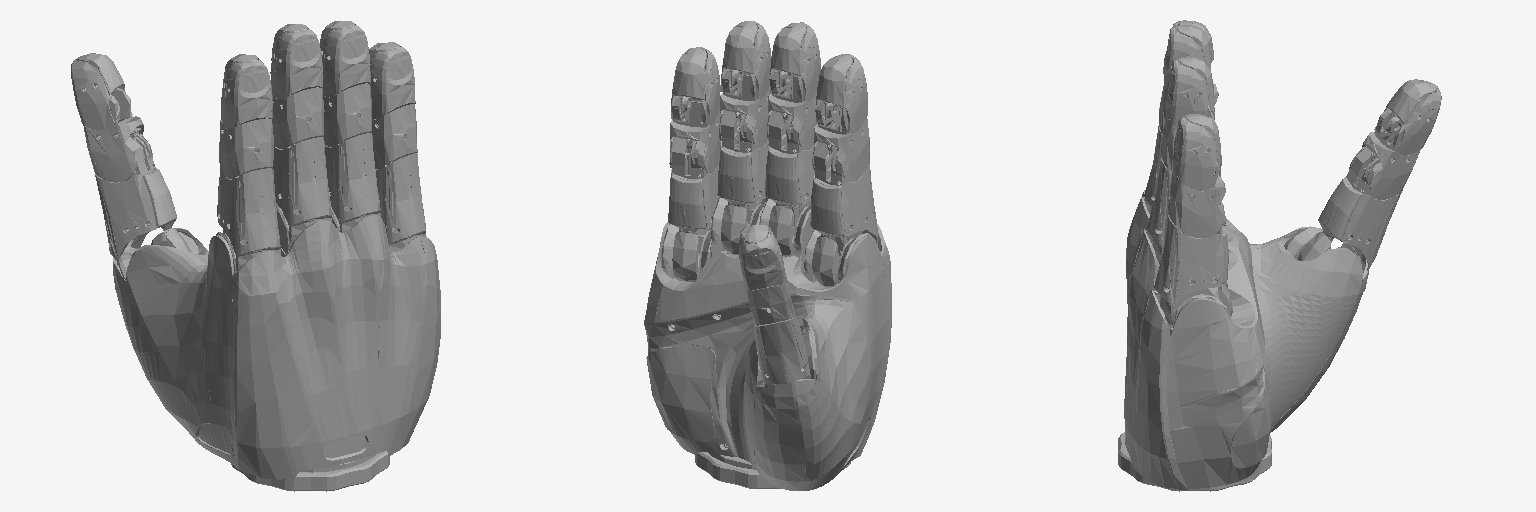
--- What the picture shows (computed from the rendered views, not written in the file) ---
The picture shows the robot from 3 angles, left to right: view 1: azimuth 30°, elevation 25°; view 2: azimuth 150°, elevation 25°; view 3: azimuth 270°, elevation 25°; orthographic projection.
Model dlr_hit2 with 27 links and 26 joints (23 revolute, 3 prismatic), rooted at root, posed all joints at 0.
Links seen in each view (by area): view 1: right_palm_link, right_thumb_proximal_link, right_index_proximal_link, right_middle_proximal_link, right_ring_proximal_link, right_pinky_proximal_link, right_middle_distal_link, right_thumb_medial_link, right_index_distal_link, right_ring_distal_link, right_thumb_distal_link, right_pinky_distal_link (+4 smaller); view 2: right_palm_link, right_index_proximal_link, right_pinky_proximal_link, right_ring_proximal_link, right_middle_proximal_link, right_thumb_proximal_link, right_index_distal_link, right_index_medial_link, right_middle_distal_link, right_ring_distal_link, right_thumb_distal_link, right_pinky_distal_link (+8 smaller); view 3: right_palm_link, right_thumb_proximal_link, right_pinky_proximal_link, right_pinky_distal_link, right_thumb_medial_link, right_thumb_distal_link, right_pinky_medial_link, right_ring_distal_link, right_middle_distal_link, right_ring_proximal_link, right_ring_medial_link, right_middle_proximal_link (+1 smaller).
Boxes of the visible links, x1=… form: right_palm_link: x1=113, y1=206, x2=440, y2=491; right_thumb_proximal_link: x1=95, y1=134, x2=176, y2=279; right_index_proximal_link: x1=217, y1=168, x2=280, y2=270; right_middle_proximal_link: x1=273, y1=137, x2=331, y2=244; right_ring_proximal_link: x1=325, y1=133, x2=380, y2=232; right_pinky_proximal_link: x1=375, y1=153, x2=425, y2=252; right_middle_distal_link: x1=271, y1=24, x2=322, y2=99; right_thumb_medial_link: x1=83, y1=88, x2=152, y2=182; right_index_distal_link: x1=221, y1=54, x2=272, y2=129; right_ring_distal_link: x1=320, y1=21, x2=370, y2=96; right_thumb_distal_link: x1=71, y1=53, x2=132, y2=130; right_pinky_distal_link: x1=369, y1=42, x2=415, y2=118; right_palm_link: x1=644, y1=197, x2=891, y2=490; right_index_proximal_link: x1=810, y1=142, x2=877, y2=244; right_pinky_proximal_link: x1=668, y1=137, x2=719, y2=234; right_ring_proximal_link: x1=717, y1=111, x2=768, y2=208; right_middle_proximal_link: x1=765, y1=111, x2=814, y2=210; right_thumb_proximal_link: x1=753, y1=288, x2=810, y2=388; right_index_distal_link: x1=816, y1=54, x2=867, y2=133; right_index_medial_link: x1=812, y1=100, x2=869, y2=181; right_middle_distal_link: x1=770, y1=22, x2=820, y2=101; right_ring_distal_link: x1=721, y1=21, x2=771, y2=99; right_thumb_distal_link: x1=739, y1=225, x2=786, y2=290; right_pinky_distal_link: x1=671, y1=47, x2=720, y2=125; right_palm_link: x1=1118, y1=190, x2=1368, y2=491; right_thumb_proximal_link: x1=1318, y1=148, x2=1401, y2=272; right_pinky_proximal_link: x1=1154, y1=194, x2=1228, y2=324; right_pinky_distal_link: x1=1173, y1=114, x2=1220, y2=190; right_thumb_medial_link: x1=1349, y1=109, x2=1419, y2=199; right_thumb_distal_link: x1=1374, y1=79, x2=1441, y2=155; right_pinky_medial_link: x1=1168, y1=148, x2=1225, y2=238; right_ring_distal_link: x1=1166, y1=57, x2=1213, y2=127; right_middle_distal_link: x1=1163, y1=25, x2=1211, y2=87; right_ring_proximal_link: x1=1147, y1=158, x2=1220, y2=264; right_ring_medial_link: x1=1161, y1=92, x2=1217, y2=171; right_middle_proximal_link: x1=1144, y1=114, x2=1218, y2=213.
Bounding box of the posed robot: 0.1295 × 0.1607 × 0.2366 m (x, y, z).
21 mesh visuals loaded from 5 distinct referenced files (5 binary STL).

The robot description file, URDF, robot "dlr_hit2":
<?xml version="1.0" encoding="utf-8"?>
<!-- =================================================================================== -->
<!-- |    This document was autogenerated by xacro from dlr_hit_15.urdf.xacro                | -->
<!-- |    EDITING THIS FILE BY HAND IS NOT RECOMMENDED                                 | -->
<!-- =================================================================================== -->
<robot name="dlr_hit2">
  <material name="DLR/LightGrey">
    <color rgba="0.7 0.7 0.7 1.0"/>
  </material>
  <material name="DLR/DarkGrey">
    <color rgba="0.4 0.4 0.4 1.0"/>
  </material>
  <material name="DLR/Black">
    <color rgba="0.0 0.0 0.0 1.0"/>
  </material>
  <material name="DLR/DarkGolden">
    <color rgba="0.4 0.4 0.3 1.0"/>
  </material>
  <material name="DLR/Blue">
    <color rgba="0.0 0.0 0.8 1.0"/>
  </material>
  <link name="root">
    <inertial>
      <origin rpy="-0.03143 -0.00602 -0.37822" xyz="0.00100 -0.00200 0.29000"/>
      <mass value="4.00000"/>
      <inertia ixx="0.05139" ixy="0" ixz="0" iyy="0.05015" iyz="0" izz="0.04715"/>
    </inertial>
  </link>
  <link name="root1">
    <inertial>
      <mass value="0.01"/>
      <inertia ixx="1e-4" ixy="0.0" ixz="0.0" iyy="1e-4" iyz="0.0" izz="1e-4"/>
    </inertial>
  </link>
  <link name="root2">
    <inertial>
      <mass value="0.01"/>
      <inertia ixx="1e-4" ixy="0.0" ixz="0.0" iyy="1e-4" iyz="0.0" izz="1e-4"/>
    </inertial>
  </link>
  <link name="root3">
    <inertial>
      <mass value="0.01"/>
      <inertia ixx="1e-4" ixy="0.0" ixz="0.0" iyy="1e-4" iyz="0.0" izz="1e-4"/>
    </inertial>
  </link>
  <link name="root4">
    <inertial>
      <mass value="0.01"/>
      <inertia ixx="1e-4" ixy="0.0" ixz="0.0" iyy="1e-4" iyz="0.0" izz="1e-4"/>
    </inertial>
  </link>
  <link name="root5">
    <inertial>
      <mass value="0.01"/>
      <inertia ixx="1e-4" ixy="0.0" ixz="0.0" iyy="1e-4" iyz="0.0" izz="1e-4"/>
    </inertial>
  </link>

  <joint name="x_joint" type="prismatic">
    <parent link="root"/>
    <child link="root1"/>
    <axis xyz="1 0 0"/>
    <limit lower="-5" upper="5"/>
  </joint>
  <joint name="y_joint" type="prismatic">
    <parent link="root1"/>
    <child link="root2"/>
    <axis xyz="0 1 0"/>
    <limit lower="-5" upper="5"/>
  </joint>
  <joint name="z_joint" type="prismatic">
    <parent link="root2"/>
    <child link="root3"/>
    <axis xyz="0 0 1"/>
    <limit lower="-5" upper="5"/>
  </joint>
  <joint name="x_rotation_joint" type="revolute">
    <parent link="root3"/>
    <child link="root4"/>
    <axis xyz="1 0 0"/>
    <limit lower="-3.14" upper="3.14"/>
  </joint>
  <joint name="y_rotation_joint" type="revolute">
    <parent link="root4"/>
    <child link="root5"/>
    <axis xyz="0 1 0"/>
    <limit lower="-3.14" upper="3.14"/>
  </joint>
  <joint name="z_rotation_joint" type="revolute">
    <parent link="root5"/>
    <child link="right_palm_link"/>
    <axis xyz="0 0 1"/>
    <origin rpy="-0.00000 -0.00000 1.57079" xyz="0 0 0"/>
    <limit lower="-3.14" upper="3.14"/>
  </joint>

  <!-- macro for the hand -->
  <!-- joint between arm_end_effector and hit2_palm_link -->
  <link name="right_palm_link">
    <!-- <inertial> -->
    <!-- PALM MASS AND INERTIA TO BE ESTIMATED!!!! -->
    <!-- <origin xyz="0 0 0" rpy="0 0 0"/>
				<mass value="1"/>
				<inertia ixx="0.01" ixy="0" ixz="0" iyy="0.01" iyz="0" izz="0.01" />
			</inertial> -->
    <!-- also check whether is ok to leave at zero the origin -->
    <visual>
      <origin rpy="0 0 0" xyz="0 0 0"/>
      <geometry>
        <mesh filename="dlr_description/meshes/hit2/palm.stl"/>
      </geometry>
      <material name="DLR/LightGrey"/>
    </visual>
    <collision>
      <origin rpy="0 0 0" xyz="0 0 0"/>
      <geometry>
        <mesh filename="dlr_description/meshes/hit2/palm.stl"/>
      </geometry>
    </collision>
  </link>
  <!-- macro for one finger -->
  <!-- abductor joint between palm_link and finger_abd_link - fake between palm and proximal -->
  <joint name="right_thumb_abd_joint" type="revolute">
    <origin rpy="0.41136 -1.08366 0.225804" xyz="0.062569057 0.044544548 0.080044647"/>
    <parent link="right_palm_link"/>
    <child link="right_thumb_abd_link"/>
    <axis xyz="0 0 1"/>
    <dynamics damping="1"/>
    <limit effort="100" lower="-0.349065850399" upper="0.349065850399" velocity="5"/>
    <!-- effort="100" velocity="5" -->
  </joint>
  <link name="right_thumb_abd_link">
    <!-- 			<inertial>
				<origin xyz="0 0 0" rpy="0 0 0"/>
				<mass value="0.0"/>
				<inertia ixx="0" ixy="0" ixz="0" iyy="0" iyz="0" izz="0" />
			</inertial> -->
    <!-- possibly add basecover.stl as both geometry and collision... -->
    <visual>
      <origin rpy="0 0 0" xyz="0 0 0"/>
      <geometry>
        <mesh filename="dlr_description/meshes/hit2/base.stl"/>
      </geometry>
      <material name="DLR/LightGrey"/>
    </visual>
  </link>
  <!-- inner joint between abd_link and proximal_link -->
  <joint name="right_thumb_inner_joint" type="revolute">
    <!-- coincident with abd_joint, rotated of 90 degrees along x -->
    <origin rpy="1.57079632679 0 0" xyz="0 0 0"/>
    <parent link="right_thumb_abd_link"/>
    <child link="right_thumb_proximal_link"/>
    <axis xyz="0 0 1"/>
    <dynamics damping="1"/>
    <limit effort="100" lower="0.0" upper="1.308996939" velocity="5"/>
    <!-- effort="100" velocity="5" -->
  </joint>
  <link name="right_thumb_proximal_link">
    <!-- <inertial>
				<origin xyz="30.164510e -1.0130813 0.50813186" rpy="0 0 0"/>
				<mass value="0.044370598"/>
				<inertia ixx="${inertia_scale * 4.5592704}" ixy="${inertia_scale * 0.90783105}" ixz="${inertia_scale * (-0.9399771)}" iyy="${inertia_scale * 49.045259}" iyz="${inertia_scale * 0.017052714}" izz="${inertia_scale * 50.524234}" />
			</inertial> -->
    <visual>
      <origin rpy="0 0 0" xyz="0 0 0"/>
      <geometry>
        <mesh filename="dlr_description/meshes/hit2/proximal.stl"/>
      </geometry>
      <material name="DLR/LightGrey"/>
    </visual>
    <!-- 			<collision>
				<origin xyz="0 0 0" rpy="0 0 0" />
				<geometry>
					<mesh filename="dlr_description/meshes/hit2/phalanx_proximal.stl"/>
				</geometry>
			</collision> -->
  </link>
  <!-- outer1 joint between proximal_link and medial_link -->
  <joint name="right_thumb_outer1_joint" type="revolute">
    <origin rpy="0 0 0" xyz="0.055 0 0"/>
    <parent link="right_thumb_proximal_link"/>
    <child link="right_thumb_medial_link"/>
    <axis xyz="0 0 1"/>
    <dynamics damping="1"/>
    <limit effort="100" lower="0.0" upper="1.308996939" velocity="5"/>
    <!-- effort="100" velocity="5" -->
  </joint>
  <link name="right_thumb_medial_link">
    <!-- <inertial>
			<origin xyz="5.7271879 -1.6164173 -1.1567914" rpy="0 0 0"/>
				<mass value="0.027110192"/>
				<inertia ixx="${inertia_scale * 2.2900229}" ixy="${inertia_scale * 0.40604622}" ixz="${inertia_scale * 0.14362094}" iyy="${inertia_scale * 4.2155489}" iyz="${inertia_scale * (-0.043115648)}" izz="${inertia_scale * 4.4292927}" />
			</inertial> -->
    <visual>
      <origin rpy="0 0 0" xyz="0 0 0"/>
      <geometry>
        <mesh filename="dlr_description/meshes/hit2/medial.stl"/>
      </geometry>
      <material name="DLR/LightGrey"/>
    </visual>
    <collision>
      <origin rpy="0 0 0" xyz="0 0 0"/>
      <geometry>
        <mesh filename="dlr_description/meshes/hit2/medial.stl"/>
      </geometry>
    </collision>
  </link>
  <!-- outer2 joint between medial_link and distal_link -->
  <joint name="right_thumb_outer2_joint" type="revolute">
    <origin rpy="0 0 -1.57079632679" xyz="0.025 0 0"/>
    <parent link="right_thumb_medial_link"/>
    <child link="right_thumb_distal_link"/>
    <axis xyz="0 0 1"/>
    <dynamics damping="1"/>
    <limit effort="100" lower="0.0" upper="1.308996939" velocity="5"/>
    <!-- effort="100" velocity="5" -->
  </joint>
  <link name="right_thumb_distal_link">
    <!-- <inertial>
			<origin xyz="-0.83348211 6.1007977 1.7728256" rpy="0 0 0"/>
				<mass value="0.018179709"/>
				<inertia ixx="${inertia_scale * 2.5867271}" ixy="${inertia_scale * 0.15840536}" ixz="${inertia_scale * (-0.00078205885)}" iyy="${inertia_scale * 0.84596248}" iyz="${inertia_scale * (-0.0048358115)}" izz="${inertia_scale * 2.5838485}" />
			</inertial> -->
    <visual>
      <origin rpy="0 0 0" xyz="0 0 0"/>
      <geometry>
        <mesh filename="dlr_description/meshes/hit2/distal.stl"/>
      </geometry>
      <material name="DLR/LightGrey"/>
    </visual>
    <collision>
      <origin rpy="0 0 0" xyz="0 0 0"/>
      <geometry>
        <mesh filename="dlr_description/meshes/hit2/distal.stl"/>
      </geometry>
    </collision>
  </link>
  <!-- macro for one finger -->
  <!-- abductor joint between palm_link and finger_abd_link - fake between palm and proximal -->
  <joint name="right_index_abd_joint" type="revolute">
    <origin rpy="3.05433 -1.57079632679 0" xyz="-0.002529881 0.036800135 0.108743545"/>
    <parent link="right_palm_link"/>
    <child link="right_index_abd_link"/>
    <axis xyz="0 0 1"/>
    <dynamics damping="1"/>
    <limit effort="100" lower="-0.349065850399" upper="0.349065850399" velocity="5"/>
    <!-- effort="100" velocity="5" -->
  </joint>
  <link name="right_index_abd_link">
    <!-- 			<inertial>
				<origin xyz="0 0 0" rpy="0 0 0"/>
				<mass value="0.0"/>
				<inertia ixx="0" ixy="0" ixz="0" iyy="0" iyz="0" izz="0" />
			</inertial> -->
    <!-- possibly add basecover.stl as both geometry and collision... -->
    <visual>
      <origin rpy="0 0 0" xyz="0 0 0"/>
      <geometry>
        <mesh filename="dlr_description/meshes/hit2/base.stl"/>
      </geometry>
      <material name="DLR/LightGrey"/>
    </visual>
  </link>
  <!-- inner joint between abd_link and proximal_link -->
  <joint name="right_index_inner_joint" type="revolute">
    <!-- coincident with abd_joint, rotated of 90 degrees along x -->
    <origin rpy="1.57079632679 0 0" xyz="0 0 0"/>
    <parent link="right_index_abd_link"/>
    <child link="right_index_proximal_link"/>
    <axis xyz="0 0 1"/>
    <dynamics damping="1"/>
    <limit effort="100" lower="0.0" upper="1.308996939" velocity="5"/>
    <!-- effort="100" velocity="5" -->
  </joint>
  <link name="right_index_proximal_link">
    <!-- <inertial>
				<origin xyz="30.164510e -1.0130813 0.50813186" rpy="0 0 0"/>
				<mass value="0.044370598"/>
				<inertia ixx="${inertia_scale * 4.5592704}" ixy="${inertia_scale * 0.90783105}" ixz="${inertia_scale * (-0.9399771)}" iyy="${inertia_scale * 49.045259}" iyz="${inertia_scale * 0.017052714}" izz="${inertia_scale * 50.524234}" />
			</inertial> -->
    <visual>
      <origin rpy="0 0 0" xyz="0 0 0"/>
      <geometry>
        <mesh filename="dlr_description/meshes/hit2/proximal.stl"/>
      </geometry>
      <material name="DLR/LightGrey"/>
    </visual>
    <!-- 			<collision>
				<origin xyz="0 0 0" rpy="0 0 0" />
				<geometry>
					<mesh filename="dlr_description/meshes/hit2/phalanx_proximal.stl"/>
				</geometry>
			</collision> -->
  </link>
  <!-- outer1 joint between proximal_link and medial_link -->
  <joint name="right_index_outer1_joint" type="revolute">
    <origin rpy="0 0 0" xyz="0.055 0 0"/>
    <parent link="right_index_proximal_link"/>
    <child link="right_index_medial_link"/>
    <axis xyz="0 0 1"/>
    <dynamics damping="1"/>
    <limit effort="100" lower="0.0" upper="1.308996939" velocity="5"/>
    <!-- effort="100" velocity="5" -->
  </joint>
  <link name="right_index_medial_link">
    <!-- <inertial>
			<origin xyz="5.7271879 -1.6164173 -1.1567914" rpy="0 0 0"/>
				<mass value="0.027110192"/>
				<inertia ixx="${inertia_scale * 2.2900229}" ixy="${inertia_scale * 0.40604622}" ixz="${inertia_scale * 0.14362094}" iyy="${inertia_scale * 4.2155489}" iyz="${inertia_scale * (-0.043115648)}" izz="${inertia_scale * 4.4292927}" />
			</inertial> -->
    <visual>
      <origin rpy="0 0 0" xyz="0 0 0"/>
      <geometry>
        <mesh filename="dlr_description/meshes/hit2/medial.stl"/>
      </geometry>
      <material name="DLR/LightGrey"/>
    </visual>
    <collision>
      <origin rpy="0 0 0" xyz="0 0 0"/>
      <geometry>
        <mesh filename="dlr_description/meshes/hit2/medial.stl"/>
      </geometry>
    </collision>
  </link>
  <!-- outer2 joint between medial_link and distal_link -->
  <joint name="right_index_outer2_joint" type="revolute">
    <origin rpy="0 0 -1.57079632679" xyz="0.025 0 0"/>
    <parent link="right_index_medial_link"/>
    <child link="right_index_distal_link"/>
    <axis xyz="0 0 1"/>
    <dynamics damping="1"/>
    <limit effort="100" lower="0.0" upper="1.308996939" velocity="5"/>
    <!-- effort="100" velocity="5" -->
  </joint>
  <link name="right_index_distal_link">
    <!-- <inertial>
			<origin xyz="-0.83348211 6.1007977 1.7728256" rpy="0 0 0"/>
				<mass value="0.018179709"/>
				<inertia ixx="${inertia_scale * 2.5867271}" ixy="${inertia_scale * 0.15840536}" ixz="${inertia_scale * (-0.00078205885)}" iyy="${inertia_scale * 0.84596248}" iyz="${inertia_scale * (-0.0048358115)}" izz="${inertia_scale * 2.5838485}" />
			</inertial> -->
    <visual>
      <origin rpy="0 0 0" xyz="0 0 0"/>
      <geometry>
        <mesh filename="dlr_description/meshes/hit2/distal.stl"/>
      </geometry>
      <material name="DLR/LightGrey"/>
    </visual>
    <collision>
      <origin rpy="0 0 0" xyz="0 0 0"/>
      <geometry>
        <mesh filename="dlr_description/meshes/hit2/distal.stl"/>
      </geometry>
    </collision>
  </link>
  <!-- macro for one finger -->
  <!-- abductor joint between palm_link and finger_abd_link - fake between palm and proximal -->
  <joint name="right_middle_abd_joint" type="revolute">
    <origin rpy="3.14159265359 -1.57079632679 0" xyz="-0.0037 0.01 0.119043545"/>
    <parent link="right_palm_link"/>
    <child link="right_middle_abd_link"/>
    <axis xyz="0 0 1"/>
    <dynamics damping="1"/>
    <limit effort="100" lower="-0.349065850399" upper="0.349065850399" velocity="5"/>
    <!-- effort="100" velocity="5" -->
  </joint>
  <link name="right_middle_abd_link">
    <!-- 			<inertial>
				<origin xyz="0 0 0" rpy="0 0 0"/>
				<mass value="0.0"/>
				<inertia ixx="0" ixy="0" ixz="0" iyy="0" iyz="0" izz="0" />
			</inertial> -->
    <!-- possibly add basecover.stl as both geometry and collision... -->
    <visual>
      <origin rpy="0 0 0" xyz="0 0 0"/>
      <geometry>
        <mesh filename="dlr_description/meshes/hit2/base.stl"/>
      </geometry>
      <material name="DLR/LightGrey"/>
    </visual>
  </link>
  <!-- inner joint between abd_link and proximal_link -->
  <joint name="right_middle_inner_joint" type="revolute">
    <!-- coincident with abd_joint, rotated of 90 degrees along x -->
    <origin rpy="1.57079632679 0 0" xyz="0 0 0"/>
    <parent link="right_middle_abd_link"/>
    <child link="right_middle_proximal_link"/>
    <axis xyz="0 0 1"/>
    <dynamics damping="1"/>
    <limit effort="100" lower="0.0" upper="1.308996939" velocity="5"/>
    <!-- effort="100" velocity="5" -->
  </joint>
  <link name="right_middle_proximal_link">
    <!-- <inertial>
				<origin xyz="30.164510e -1.0130813 0.50813186" rpy="0 0 0"/>
				<mass value="0.044370598"/>
				<inertia ixx="${inertia_scale * 4.5592704}" ixy="${inertia_scale * 0.90783105}" ixz="${inertia_scale * (-0.9399771)}" iyy="${inertia_scale * 49.045259}" iyz="${inertia_scale * 0.017052714}" izz="${inertia_scale * 50.524234}" />
			</inertial> -->
    <visual>
      <origin rpy="0 0 0" xyz="0 0 0"/>
      <geometry>
        <mesh filename="dlr_description/meshes/hit2/proximal.stl"/>
      </geometry>
      <material name="DLR/LightGrey"/>
    </visual>
    <!-- 			<collision>
				<origin xyz="0 0 0" rpy="0 0 0" />
				<geometry>
					<mesh filename="dlr_description/meshes/hit2/phalanx_proximal.stl"/>
				</geometry>
			</collision> -->
  </link>
  <!-- outer1 joint between proximal_link and medial_link -->
  <joint name="right_middle_outer1_joint" type="revolute">
    <origin rpy="0 0 0" xyz="0.055 0 0"/>
    <parent link="right_middle_proximal_link"/>
    <child link="right_middle_medial_link"/>
    <axis xyz="0 0 1"/>
    <dynamics damping="1"/>
    <limit effort="100" lower="0.0" upper="1.308996939" velocity="5"/>
    <!-- effort="100" velocity="5" -->
  </joint>
  <link name="right_middle_medial_link">
    <!-- <inertial>
			<origin xyz="5.7271879 -1.6164173 -1.1567914" rpy="0 0 0"/>
				<mass value="0.027110192"/>
				<inertia ixx="${inertia_scale * 2.2900229}" ixy="${inertia_scale * 0.40604622}" ixz="${inertia_scale * 0.14362094}" iyy="${inertia_scale * 4.2155489}" iyz="${inertia_scale * (-0.043115648)}" izz="${inertia_scale * 4.4292927}" />
			</inertial> -->
    <visual>
      <origin rpy="0 0 0" xyz="0 0 0"/>
      <geometry>
        <mesh filename="dlr_description/meshes/hit2/medial.stl"/>
      </geometry>
      <material name="DLR/LightGrey"/>
    </visual>
    <collision>
      <origin rpy="0 0 0" xyz="0 0 0"/>
      <geometry>
        <mesh filename="dlr_description/meshes/hit2/medial.stl"/>
      </geometry>
    </collision>
  </link>
  <!-- outer2 joint between medial_link and distal_link -->
  <joint name="right_middle_outer2_joint" type="revolute">
    <origin rpy="0 0 -1.57079632679" xyz="0.025 0 0"/>
    <parent link="right_middle_medial_link"/>
    <child link="right_middle_distal_link"/>
    <axis xyz="0 0 1"/>
    <dynamics damping="1"/>
    <limit effort="100" lower="0.0" upper="1.308996939" velocity="5"/>
    <!-- effort="100" velocity="5" -->
  </joint>
  <link name="right_middle_distal_link">
    <!-- <inertial>
			<origin xyz="-0.83348211 6.1007977 1.7728256" rpy="0 0 0"/>
				<mass value="0.018179709"/>
				<inertia ixx="${inertia_scale * 2.5867271}" ixy="${inertia_scale * 0.15840536}" ixz="${inertia_scale * (-0.00078205885)}" iyy="${inertia_scale * 0.84596248}" iyz="${inertia_scale * (-0.0048358115)}" izz="${inertia_scale * 2.5838485}" />
			</inertial> -->
    <visual>
      <origin rpy="0 0 0" xyz="0 0 0"/>
      <geometry>
        <mesh filename="dlr_description/meshes/hit2/distal.stl"/>
      </geometry>
      <material name="DLR/LightGrey"/>
    </visual>
    <collision>
      <origin rpy="0 0 0" xyz="0 0 0"/>
      <geometry>
        <mesh filename="dlr_description/meshes/hit2/distal.stl"/>
      </geometry>
    </collision>
  </link>
  <!-- macro for one finger -->
  <!-- abductor joint between palm_link and finger_abd_link - fake between palm and proximal -->
  <joint name="right_ring_abd_joint" type="revolute">
    <origin rpy="-3.05433 -1.57079632679 0" xyz="-0.002529881 -0.016800135 0.114043545"/>
    <parent link="right_palm_link"/>
    <child link="right_ring_abd_link"/>
    <axis xyz="0 0 1"/>
    <dynamics damping="1"/>
    <limit effort="100" lower="-0.349065850399" upper="0.349065850399" velocity="5"/>
    <!-- effort="100" velocity="5" -->
  </joint>
  <link name="right_ring_abd_link">
    <!-- 			<inertial>
				<origin xyz="0 0 0" rpy="0 0 0"/>
				<mass value="0.0"/>
				<inertia ixx="0" ixy="0" ixz="0" iyy="0" iyz="0" izz="0" />
			</inertial> -->
    <!-- possibly add basecover.stl as both geometry and collision... -->
    <visual>
      <origin rpy="0 0 0" xyz="0 0 0"/>
      <geometry>
        <mesh filename="dlr_description/meshes/hit2/base.stl"/>
      </geometry>
      <material name="DLR/LightGrey"/>
    </visual>
  </link>
  <!-- inner joint between abd_link and proximal_link -->
  <joint name="right_ring_inner_joint" type="revolute">
    <!-- coincident with abd_joint, rotated of 90 degrees along x -->
    <origin rpy="1.57079632679 0 0" xyz="0 0 0"/>
    <parent link="right_ring_abd_link"/>
    <child link="right_ring_proximal_link"/>
    <axis xyz="0 0 1"/>
    <dynamics damping="1"/>
    <limit effort="100" lower="0.0" upper="1.308996939" velocity="5"/>
    <!-- effort="100" velocity="5" -->
  </joint>
  <link name="right_ring_proximal_link">
    <!-- <inertial>
				<origin xyz="30.164510e -1.0130813 0.50813186" rpy="0 0 0"/>
				<mass value="0.044370598"/>
				<inertia ixx="${inertia_scale * 4.5592704}" ixy="${inertia_scale * 0.90783105}" ixz="${inertia_scale * (-0.9399771)}" iyy="${inertia_scale * 49.045259}" iyz="${inertia_scale * 0.017052714}" izz="${inertia_scale * 50.524234}" />
			</inertial> -->
    <visual>
      <origin rpy="0 0 0" xyz="0 0 0"/>
      <geometry>
        <mesh filename="dlr_description/meshes/hit2/proximal.stl"/>
      </geometry>
      <material name="DLR/LightGrey"/>
    </visual>
    <!-- 			<collision>
				<origin xyz="0 0 0" rpy="0 0 0" />
				<geometry>
					<mesh filename="dlr_description/meshes/hit2/phalanx_proximal.stl"/>
				</geometry>
			</collision> -->
  </link>
  <!-- outer1 joint between proximal_link and medial_link -->
  <joint name="right_ring_outer1_joint" type="revolute">
    <origin rpy="0 0 0" xyz="0.055 0 0"/>
    <parent link="right_ring_proximal_link"/>
    <child link="right_ring_medial_link"/>
    <axis xyz="0 0 1"/>
    <dynamics damping="1"/>
    <limit effort="100" lower="0.0" upper="1.308996939" velocity="5"/>
    <!-- effort="100" velocity="5" -->
  </joint>
  <link name="right_ring_medial_link">
    <!-- <inertial>
			<origin xyz="5.7271879 -1.6164173 -1.1567914" rpy="0 0 0"/>
				<mass value="0.027110192"/>
				<inertia ixx="${inertia_scale * 2.2900229}" ixy="${inertia_scale * 0.40604622}" ixz="${inertia_scale * 0.14362094}" iyy="${inertia_scale * 4.2155489}" iyz="${inertia_scale * (-0.043115648)}" izz="${inertia_scale * 4.4292927}" />
			</inertial> -->
    <visual>
      <origin rpy="0 0 0" xyz="0 0 0"/>
      <geometry>
        <mesh filename="dlr_description/meshes/hit2/medial.stl"/>
      </geometry>
      <material name="DLR/LightGrey"/>
    </visual>
    <collision>
      <origin rpy="0 0 0" xyz="0 0 0"/>
      <geometry>
        <mesh filename="dlr_description/meshes/hit2/medial.stl"/>
      </geometry>
    </collision>
  </link>
  <!-- outer2 joint between medial_link and distal_link -->
  <joint name="right_ring_outer2_joint" type="revolute">
    <origin rpy="0 0 -1.57079632679" xyz="0.025 0 0"/>
    <parent link="right_ring_medial_link"/>
    <child link="right_ring_distal_link"/>
    <axis xyz="0 0 1"/>
    <dynamics damping="1"/>
    <limit effort="100" lower="0.0" upper="1.308996939" velocity="5"/>
    <!-- effort="100" velocity="5" -->
  </joint>
  <link name="right_ring_distal_link">
    <!-- <inertial>
			<origin xyz="-0.83348211 6.1007977 1.7728256" rpy="0 0 0"/>
				<mass value="0.018179709"/>
				<inertia ixx="${inertia_scale * 2.5867271}" ixy="${inertia_scale * 0.15840536}" ixz="${inertia_scale * (-0.00078205885)}" iyy="${inertia_scale * 0.84596248}" iyz="${inertia_scale * (-0.0048358115)}" izz="${inertia_scale * 2.5838485}" />
			</inertial> -->
    <visual>
      <origin rpy="0 0 0" xyz="0 0 0"/>
      <geometry>
        <mesh filename="dlr_description/meshes/hit2/distal.stl"/>
      </geometry>
      <material name="DLR/LightGrey"/>
    </visual>
    <collision>
      <origin rpy="0 0 0" xyz="0 0 0"/>
      <geometry>
        <mesh filename="dlr_description/meshes/hit2/distal.stl"/>
      </geometry>
    </collision>
  </link>
  <!-- macro for one finger -->
  <!-- abductor joint between palm_link and finger_abd_link - fake between palm and proximal -->
  <joint name="right_pinky_abd_joint" type="revolute">
    <origin rpy="-2.96706 -1.57079632679 0" xyz="0.000971571 -0.043396306 0.095043545"/>
    <parent link="right_palm_link"/>
    <child link="right_pinky_abd_link"/>
    <axis xyz="0 0 1"/>
    <dynamics damping="1"/>
    <limit effort="100" lower="-0.349065850399" upper="0.349065850399" velocity="5"/>
    <!-- effort="100" velocity="5" -->
  </joint>
  <link name="right_pinky_abd_link">
    <!-- 			<inertial>
				<origin xyz="0 0 0" rpy="0 0 0"/>
				<mass value="0.0"/>
				<inertia ixx="0" ixy="0" ixz="0" iyy="0" iyz="0" izz="0" />
			</inertial> -->
    <!-- possibly add basecover.stl as both geometry and collision... -->
    <visual>
      <origin rpy="0 0 0" xyz="0 0 0"/>
      <geometry>
        <mesh filename="dlr_description/meshes/hit2/base.stl"/>
      </geometry>
      <material name="DLR/LightGrey"/>
    </visual>
  </link>
  <!-- inner joint between abd_link and proximal_link -->
  <joint name="right_pinky_inner_joint" type="revolute">
    <!-- coincident with abd_joint, rotated of 90 degrees along x -->
    <origin rpy="1.57079632679 0 0" xyz="0 0 0"/>
    <parent link="right_pinky_abd_link"/>
    <child link="right_pinky_proximal_link"/>
    <axis xyz="0 0 1"/>
    <dynamics damping="1"/>
    <limit effort="100" lower="0.0" upper="1.308996939" velocity="5"/>
    <!-- effort="100" velocity="5" -->
  </joint>
  <link name="right_pinky_proximal_link">
    <!-- <inertial>
				<origin xyz="30.164510e -1.0130813 0.50813186" rpy="0 0 0"/>
				<mass value="0.044370598"/>
				<inertia ixx="${inertia_scale * 4.5592704}" ixy="${inertia_scale * 0.90783105}" ixz="${inertia_scale * (-0.9399771)}" iyy="${inertia_scale * 49.045259}" iyz="${inertia_scale * 0.017052714}" izz="${inertia_scale * 50.524234}" />
			</inertial> -->
    <visual>
      <origin rpy="0 0 0" xyz="0 0 0"/>
      <geometry>
        <mesh filename="dlr_description/meshes/hit2/proximal.stl"/>
      </geometry>
      <material name="DLR/LightGrey"/>
    </visual>
    <!-- 			<collision>
				<origin xyz="0 0 0" rpy="0 0 0" />
				<geometry>
					<mesh filename="dlr_description/meshes/hit2/phalanx_proximal.stl"/>
				</geometry>
			</collision> -->
  </link>
  <!-- outer1 joint between proximal_link and medial_link -->
  <joint name="right_pinky_outer1_joint" type="revolute">
    <origin rpy="0 0 0" xyz="0.055 0 0"/>
    <parent link="right_pinky_proximal_link"/>
    <child link="right_pinky_medial_link"/>
    <axis xyz="0 0 1"/>
    <dynamics damping="1"/>
    <limit effort="100" lower="0.0" upper="1.308996939" velocity="5"/>
    <!-- effort="100" velocity="5" -->
  </joint>
  <link name="right_pinky_medial_link">
    <!-- <inertial>
			<origin xyz="5.7271879 -1.6164173 -1.1567914" rpy="0 0 0"/>
				<mass value="0.027110192"/>
				<inertia ixx="${inertia_scale * 2.2900229}" ixy="${inertia_scale * 0.40604622}" ixz="${inertia_scale * 0.14362094}" iyy="${inertia_scale * 4.2155489}" iyz="${inertia_scale * (-0.043115648)}" izz="${inertia_scale * 4.4292927}" />
			</inertial> -->
    <visual>
      <origin rpy="0 0 0" xyz="0 0 0"/>
      <geometry>
        <mesh filename="dlr_description/meshes/hit2/medial.stl"/>
      </geometry>
      <material name="DLR/LightGrey"/>
    </visual>
    <collision>
      <origin rpy="0 0 0" xyz="0 0 0"/>
      <geometry>
        <mesh filename="dlr_description/meshes/hit2/medial.stl"/>
      </geometry>
    </collision>
  </link>
  <!-- outer2 joint between medial_link and distal_link -->
  <joint name="right_pinky_outer2_joint" type="revolute">
    <origin rpy="0 0 -1.57079632679" xyz="0.025 0 0"/>
    <parent link="right_pinky_medial_link"/>
    <child link="right_pinky_distal_link"/>
    <axis xyz="0 0 1"/>
    <dynamics damping="1"/>
    <limit effort="100" lower="0.0" upper="1.308996939" velocity="5"/>
    <!-- effort="100" velocity="5" -->
  </joint>
  <link name="right_pinky_distal_link">
    <!-- <inertial>
			<origin xyz="-0.83348211 6.1007977 1.7728256" rpy="0 0 0"/>
				<mass value="0.018179709"/>
				<inertia ixx="${inertia_scale * 2.5867271}" ixy="${inertia_scale * 0.15840536}" ixz="${inertia_scale * (-0.00078205885)}" iyy="${inertia_scale * 0.84596248}" iyz="${inertia_scale * (-0.0048358115)}" izz="${inertia_scale * 2.5838485}" />
			</inertial> -->
    <visual>
      <origin rpy="0 0 0" xyz="0 0 0"/>
      <geometry>
        <mesh filename="dlr_description/meshes/hit2/distal.stl"/>
      </geometry>
      <material name="DLR/LightGrey"/>
    </visual>
    <collision>
      <origin rpy="0 0 0" xyz="0 0 0"/>
      <geometry>
        <mesh filename="dlr_description/meshes/hit2/distal.stl"/>
      </geometry>
    </collision>
  </link>
  <!-- five equal fingers -->
</robot>
